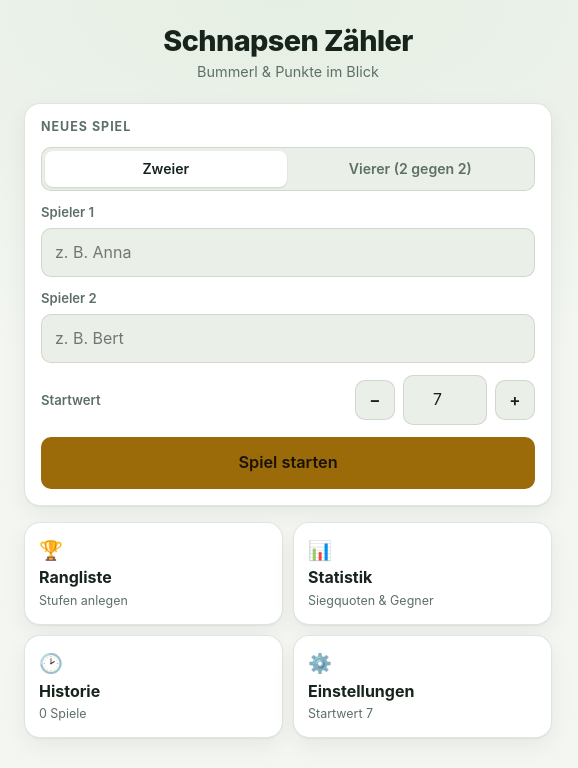
Scenario: App › macht den letzten Abzug per Undo rückgängig
In the field labelled "Spieler 1": x=288, y=253 [41,228,535,277], type "Anna"
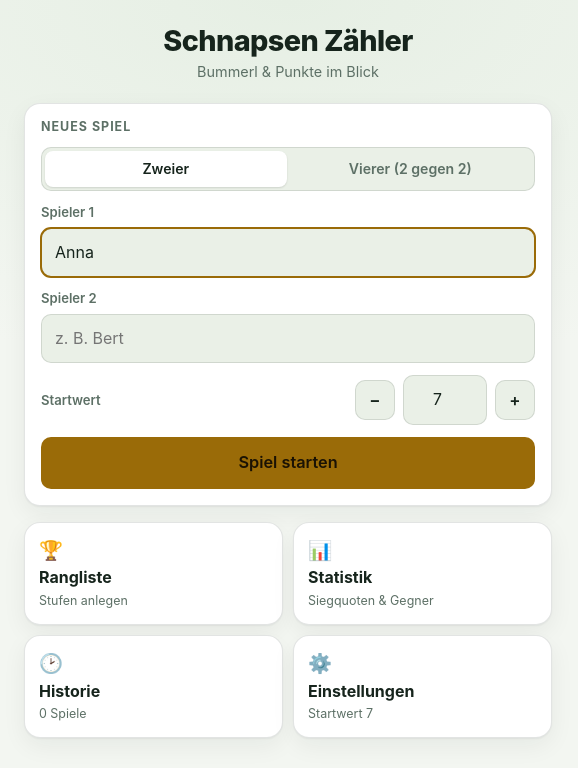
In the field labelled "Spieler 2": x=288, y=339 [41,314,535,364], type "Bert"
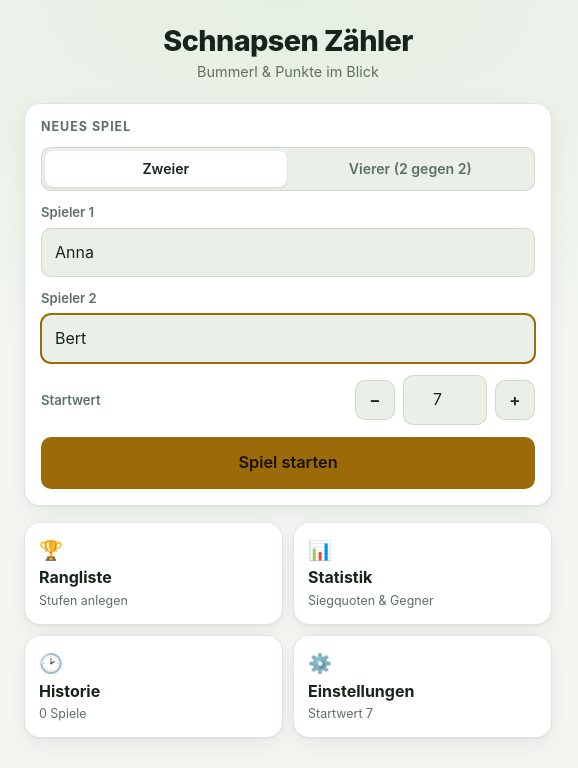
Click the button "Spiel starten": x=288, y=463 [41,437,535,489]
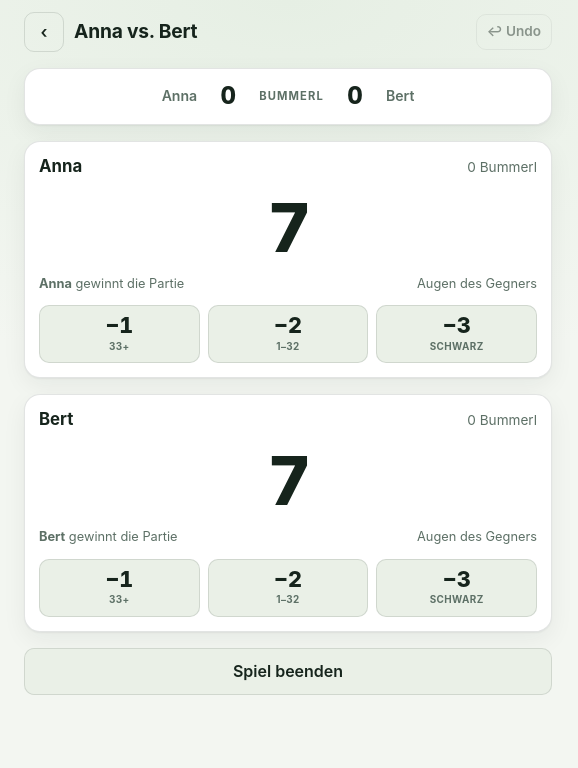
Expected: the heading "Anna vs. Bert" is shown, [74,20,197,44]
Click the 2nd button "−2 1–32": x=288, y=588 [208,559,368,617]
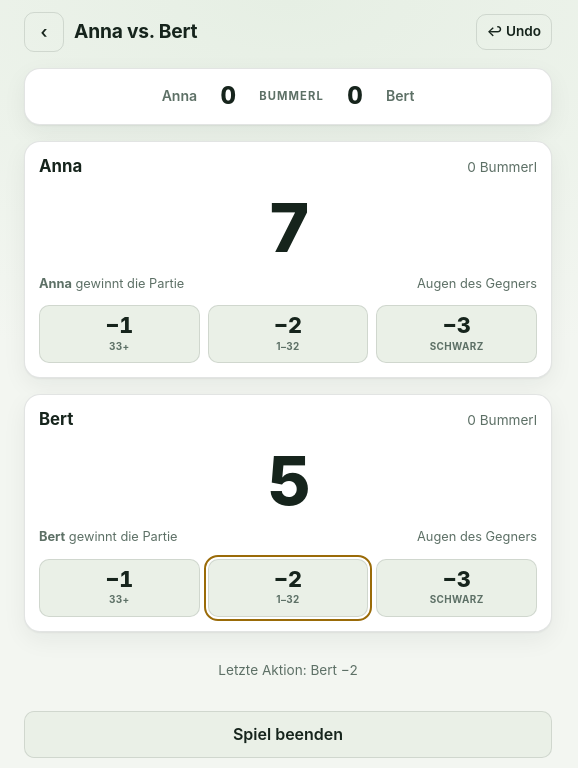
Click the button "↩︎ Undo": x=514, y=32 [476,14,552,50]
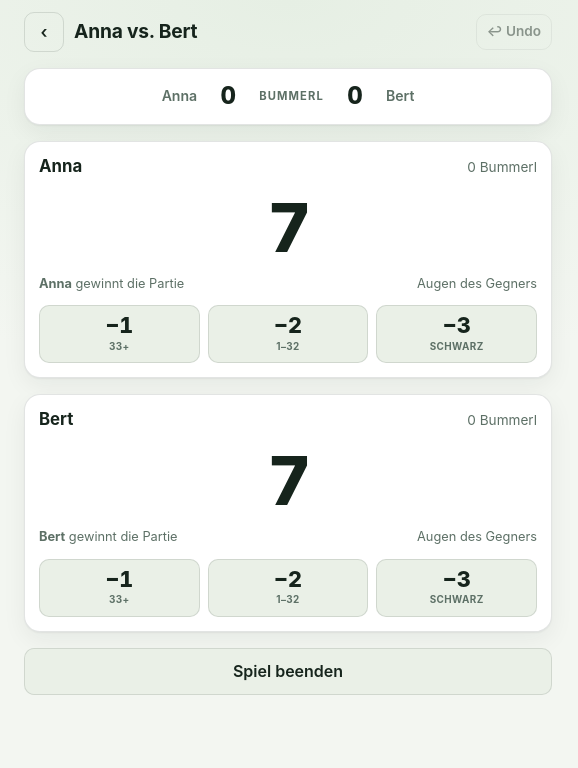
Expected: the button "↩︎ Undo" is disabled, [476,14,552,50]
